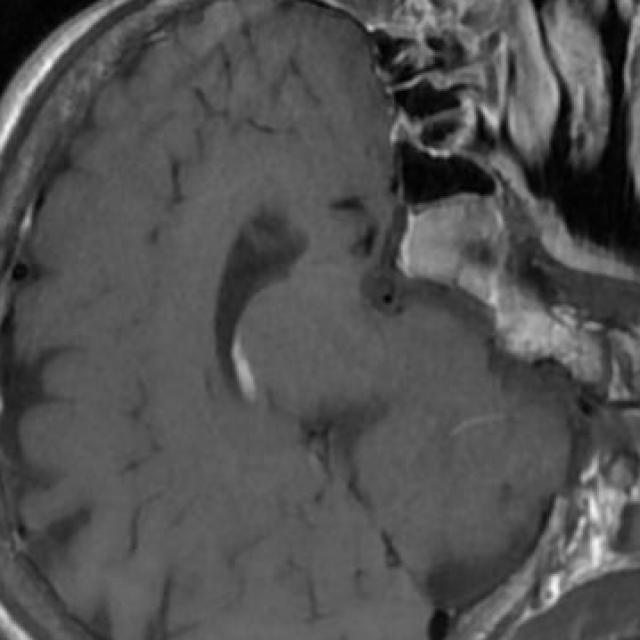pituitary: (405, 193, 505, 278)
